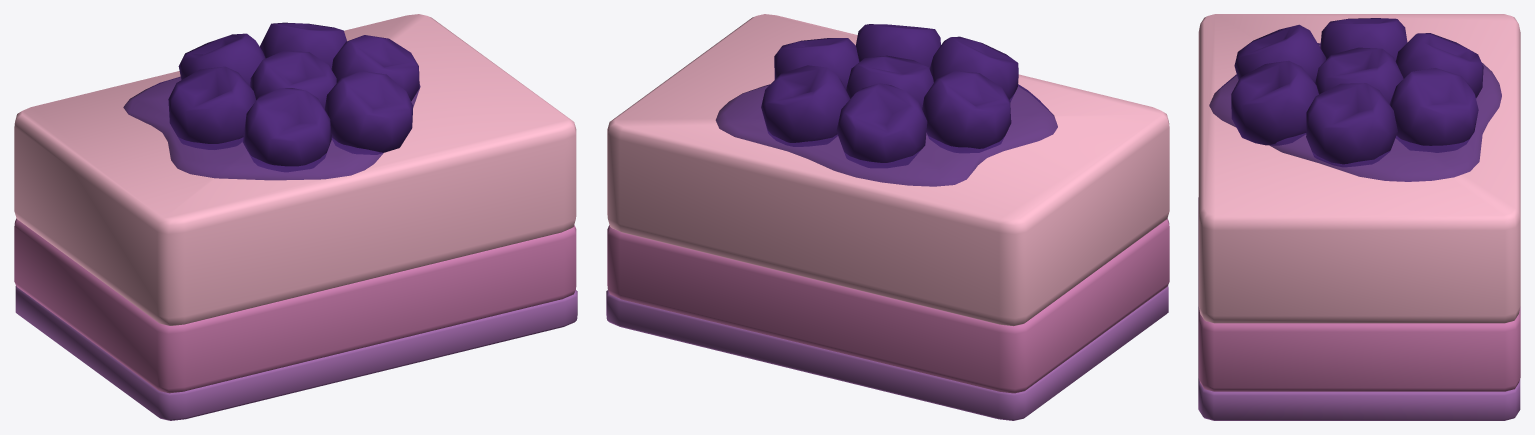
File: Cake3.fbx
The picture shows the model from 3 angles, left to right: view 1: azimuth 30°, elevation 25°; view 2: azimuth 150°, elevation 25°; view 3: azimuth 270°, elevation 25°; orthographic projection.
Parts seen in each view (by area): view 1: Cake3; view 2: Cake3; view 3: Cake3.
Boxes of the visible parts, <box> form: Cake3: <box>14,14,577,420</box>; Cake3: <box>606,14,1169,420</box>; Cake3: <box>1198,14,1520,420</box>.
Size of the model in its own units: 36.53 by 21.69 by 23.8.
